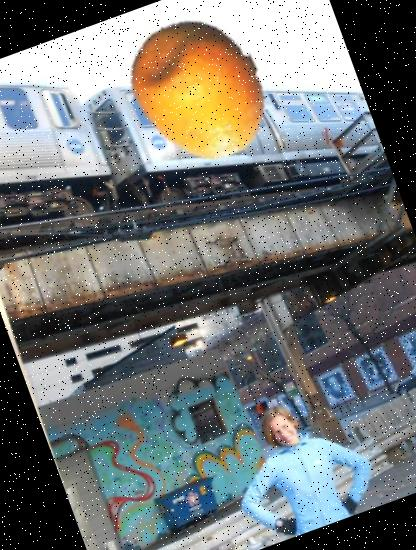Kumquats: (104, 0, 296, 185)
